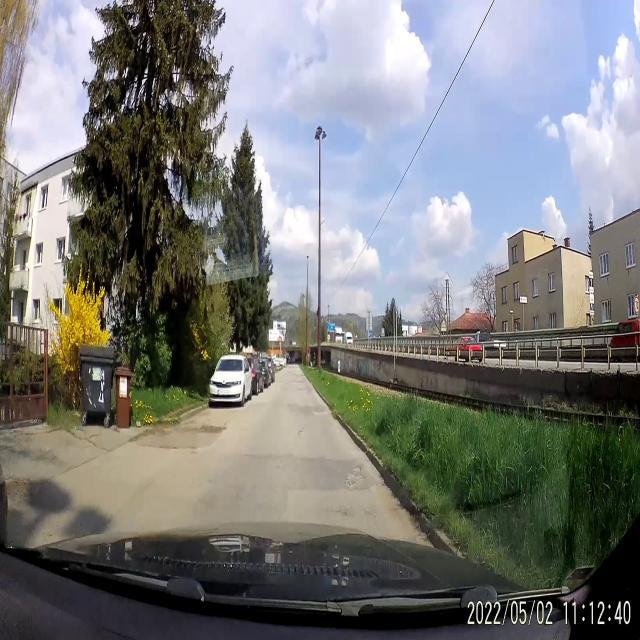Pothole: (344, 464, 371, 492)
